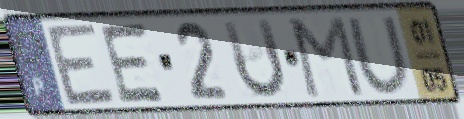2: (174, 19, 231, 102)
E: (42, 20, 121, 109), (97, 20, 170, 106)
M: (287, 13, 367, 100)
U: (218, 15, 289, 103), (343, 13, 416, 97)
